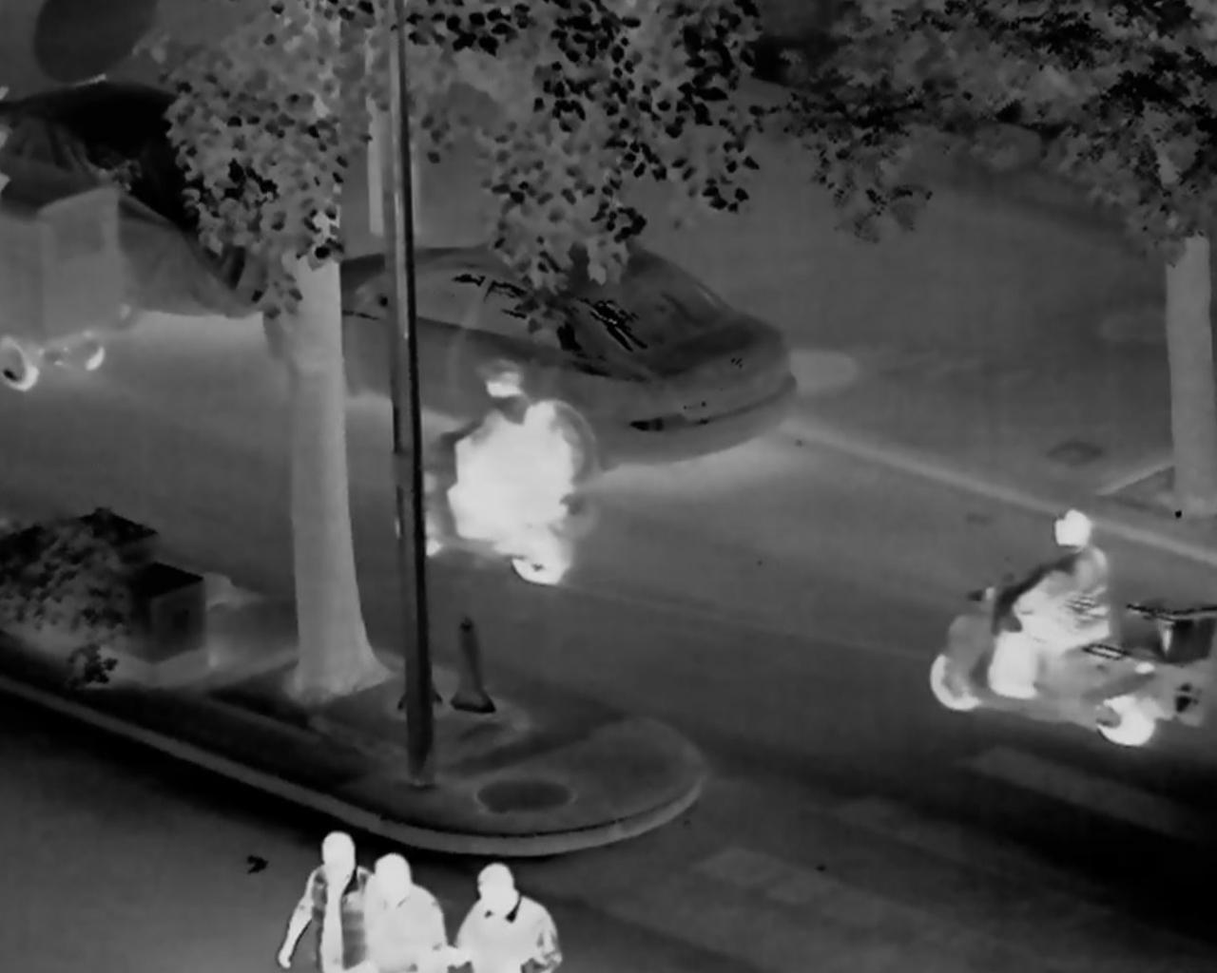person: (1004, 510, 1111, 696), (272, 829, 378, 973), (451, 363, 531, 542), (454, 864, 555, 973), (359, 854, 451, 973)
